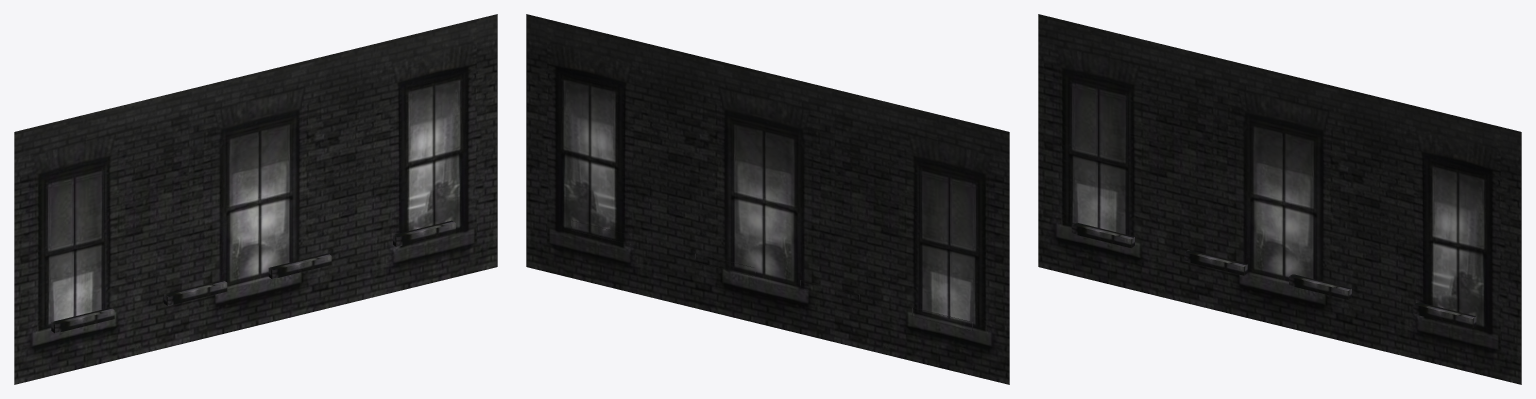
The model's file is floor.obj.
3 renders of one model, left to right at view 1: azimuth 30°, elevation 25°; view 2: azimuth 150°, elevation 25°; view 3: azimuth 330°, elevation 25°, orthographic.
Visible parts, largest first — view 1: group; view 2: group; view 3: group.
Boxes of the visible parts, x1=… form: group: x1=14, y1=14, x2=497, y2=384; group: x1=526, y1=14, x2=1009, y2=384; group: x1=1038, y1=14, x2=1521, y2=384.
Bounding box in the file's own units: 10 × 5 × 0.14.
